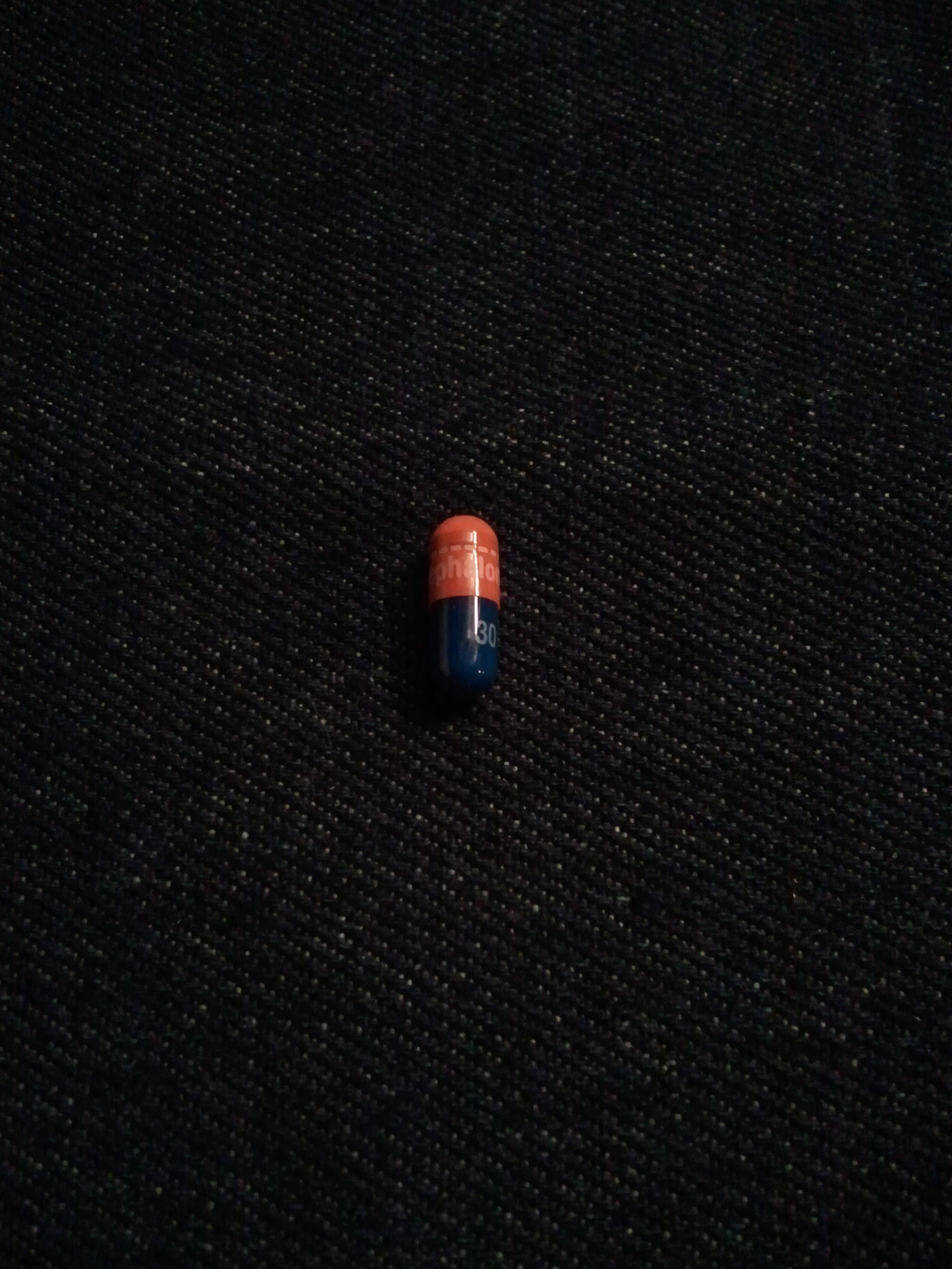Pill: (399, 488, 523, 726)
